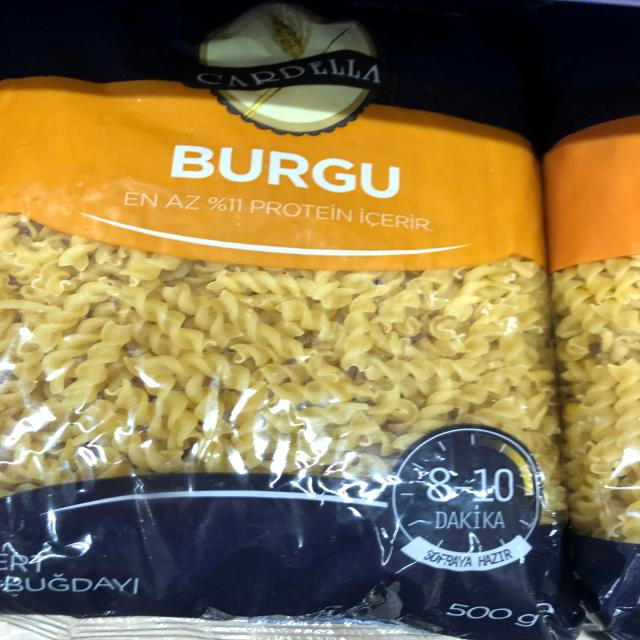fusilli pasta: (0, 11, 540, 640)
